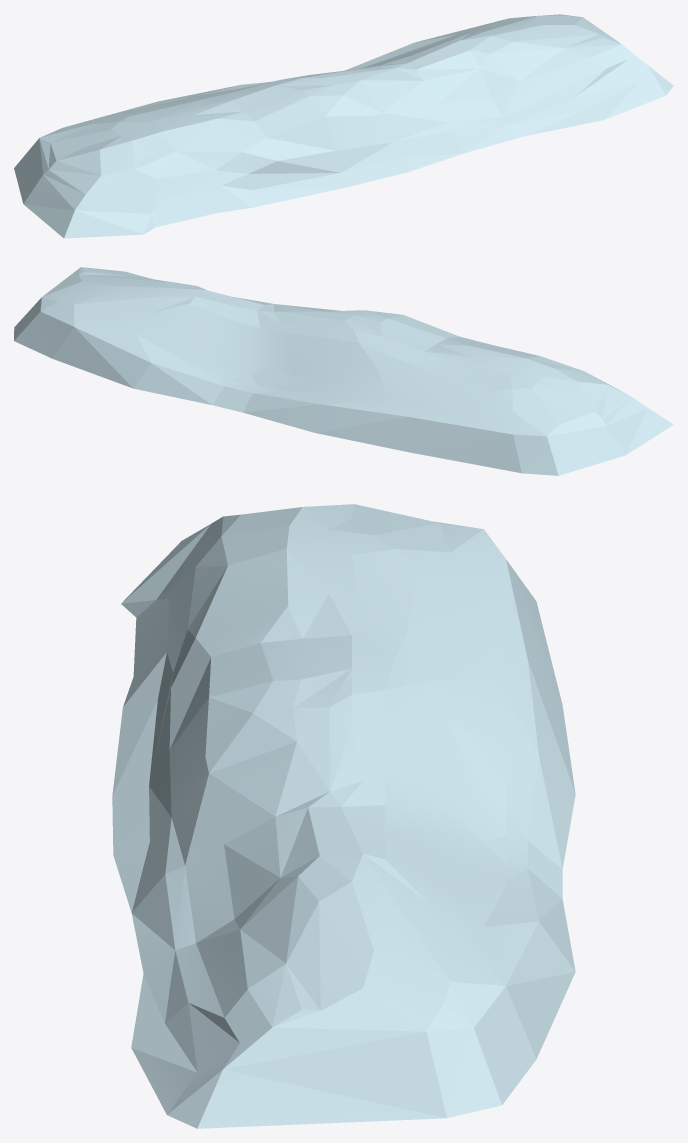
File: Monticulo04.glb
3 renders of one model, top to bottom at view 1: azimuth 30°, elevation 25°; view 2: azimuth 150°, elevation 25°; view 3: azimuth 270°, elevation 25°, orthographic. The views are drawn at different scales.
Parts seen in each view (by area): view 1: SM_Env_Dirt_Mound_04_Snow; view 2: SM_Env_Dirt_Mound_04_Snow; view 3: SM_Env_Dirt_Mound_04_Snow.
Boxes of the visible parts, bbox=[...] form: SM_Env_Dirt_Mound_04_Snow: bbox=[14, 14, 673, 238]; SM_Env_Dirt_Mound_04_Snow: bbox=[14, 267, 673, 475]; SM_Env_Dirt_Mound_04_Snow: bbox=[112, 504, 575, 1128].
Size of the model in its own units: 14.25 by 1.36 by 4.74.
1 material, 1 textured.
